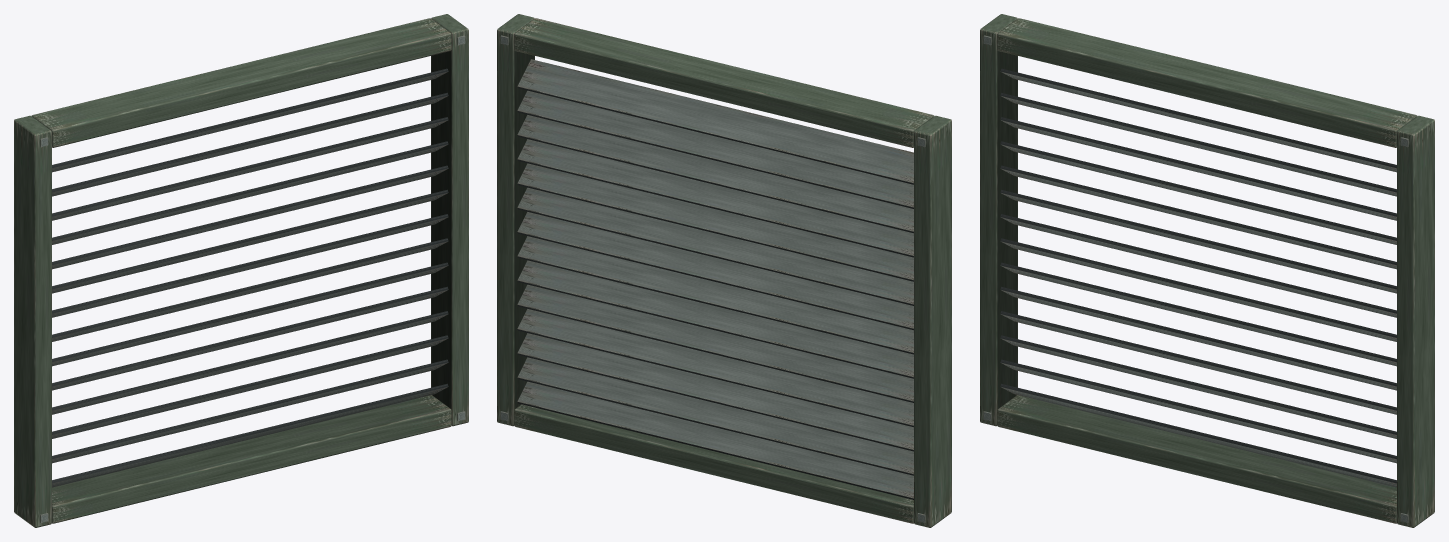
The model's file is vent_grate_wide.glb.
The picture shows the model from 3 angles, left to right: view 1: azimuth 30°, elevation 25°; view 2: azimuth 150°, elevation 25°; view 3: azimuth 330°, elevation 25°; orthographic projection.
Parts seen in each view (by area): view 1: VentGrateWide; view 2: VentGrateWide; view 3: VentGrateWide.
Part boxes in pixels (x1,y1,x2,y2): VentGrateWide: (14,14,468,527); VentGrateWide: (497,14,951,527); VentGrateWide: (980,14,1434,527).
Size of the model in its own units: 3 by 2.6 by 0.28.
Materials: 1 (1 with a texture image).
